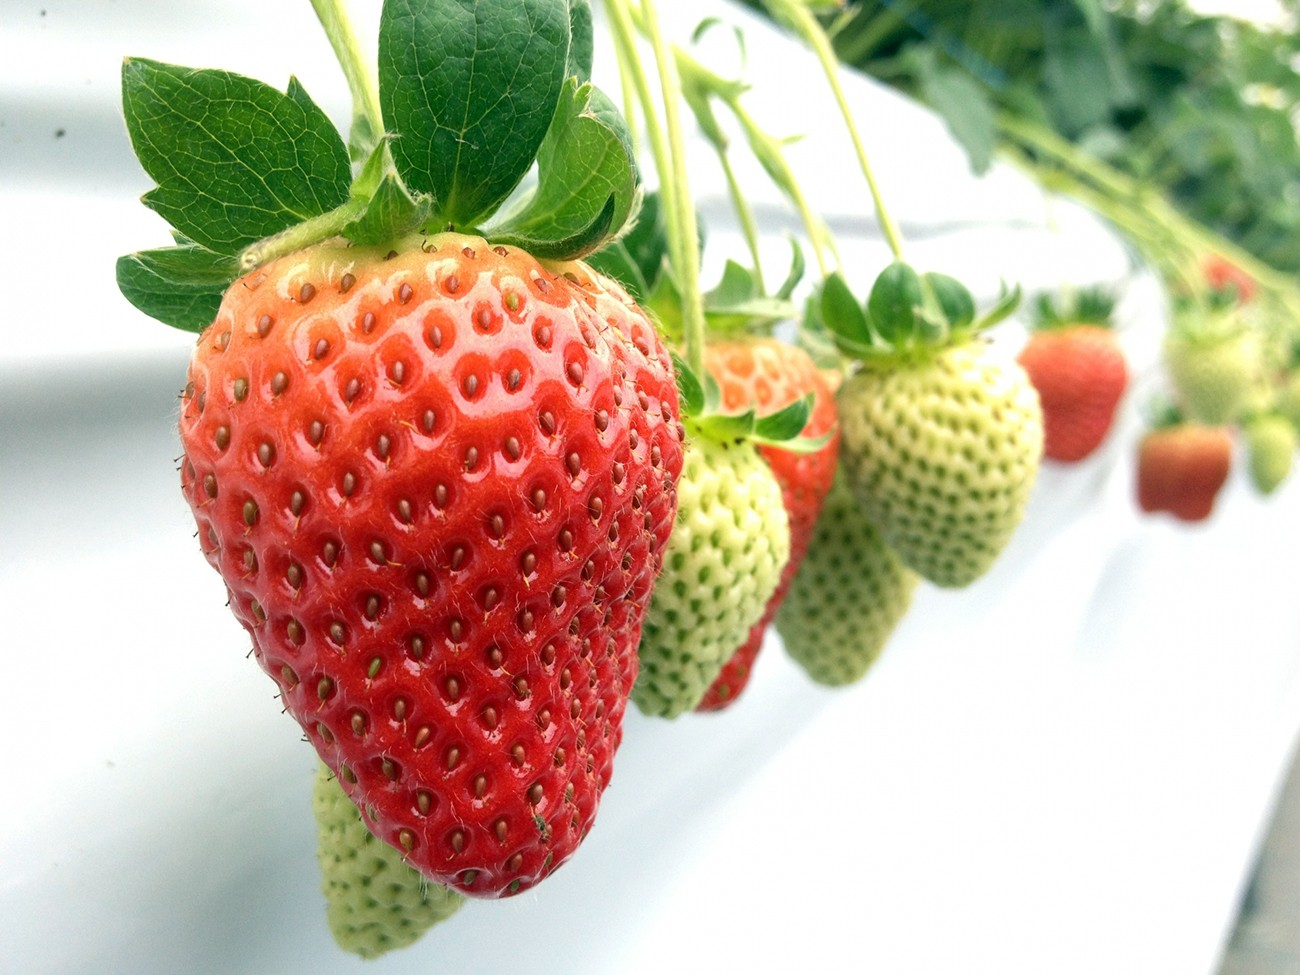ripe: (162, 224, 680, 904), (631, 319, 846, 598), (1021, 308, 1136, 476), (1138, 404, 1231, 536)
unripe: (599, 415, 805, 745), (310, 655, 499, 964), (843, 324, 1055, 597), (750, 402, 934, 702), (1163, 299, 1264, 421), (1242, 422, 1300, 507)
